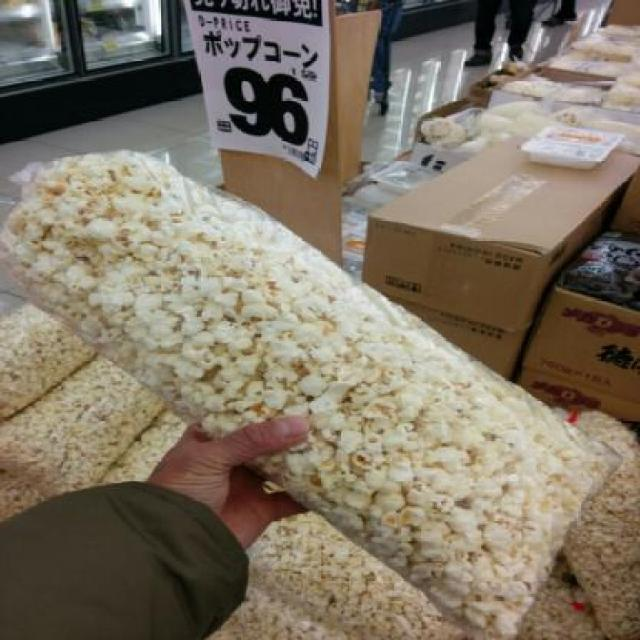Popcorn: (1, 147, 624, 638)
